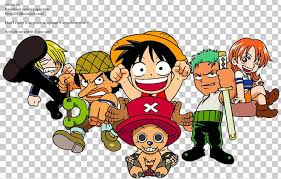chopper: (114, 96, 182, 179)
luffy: (108, 31, 191, 100)
